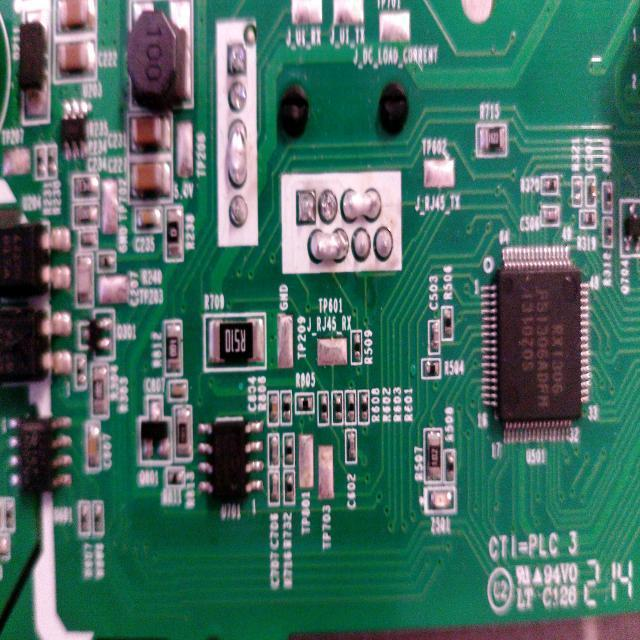Soldering shorted: (337, 182, 390, 226), (222, 118, 254, 188), (306, 230, 348, 266)
